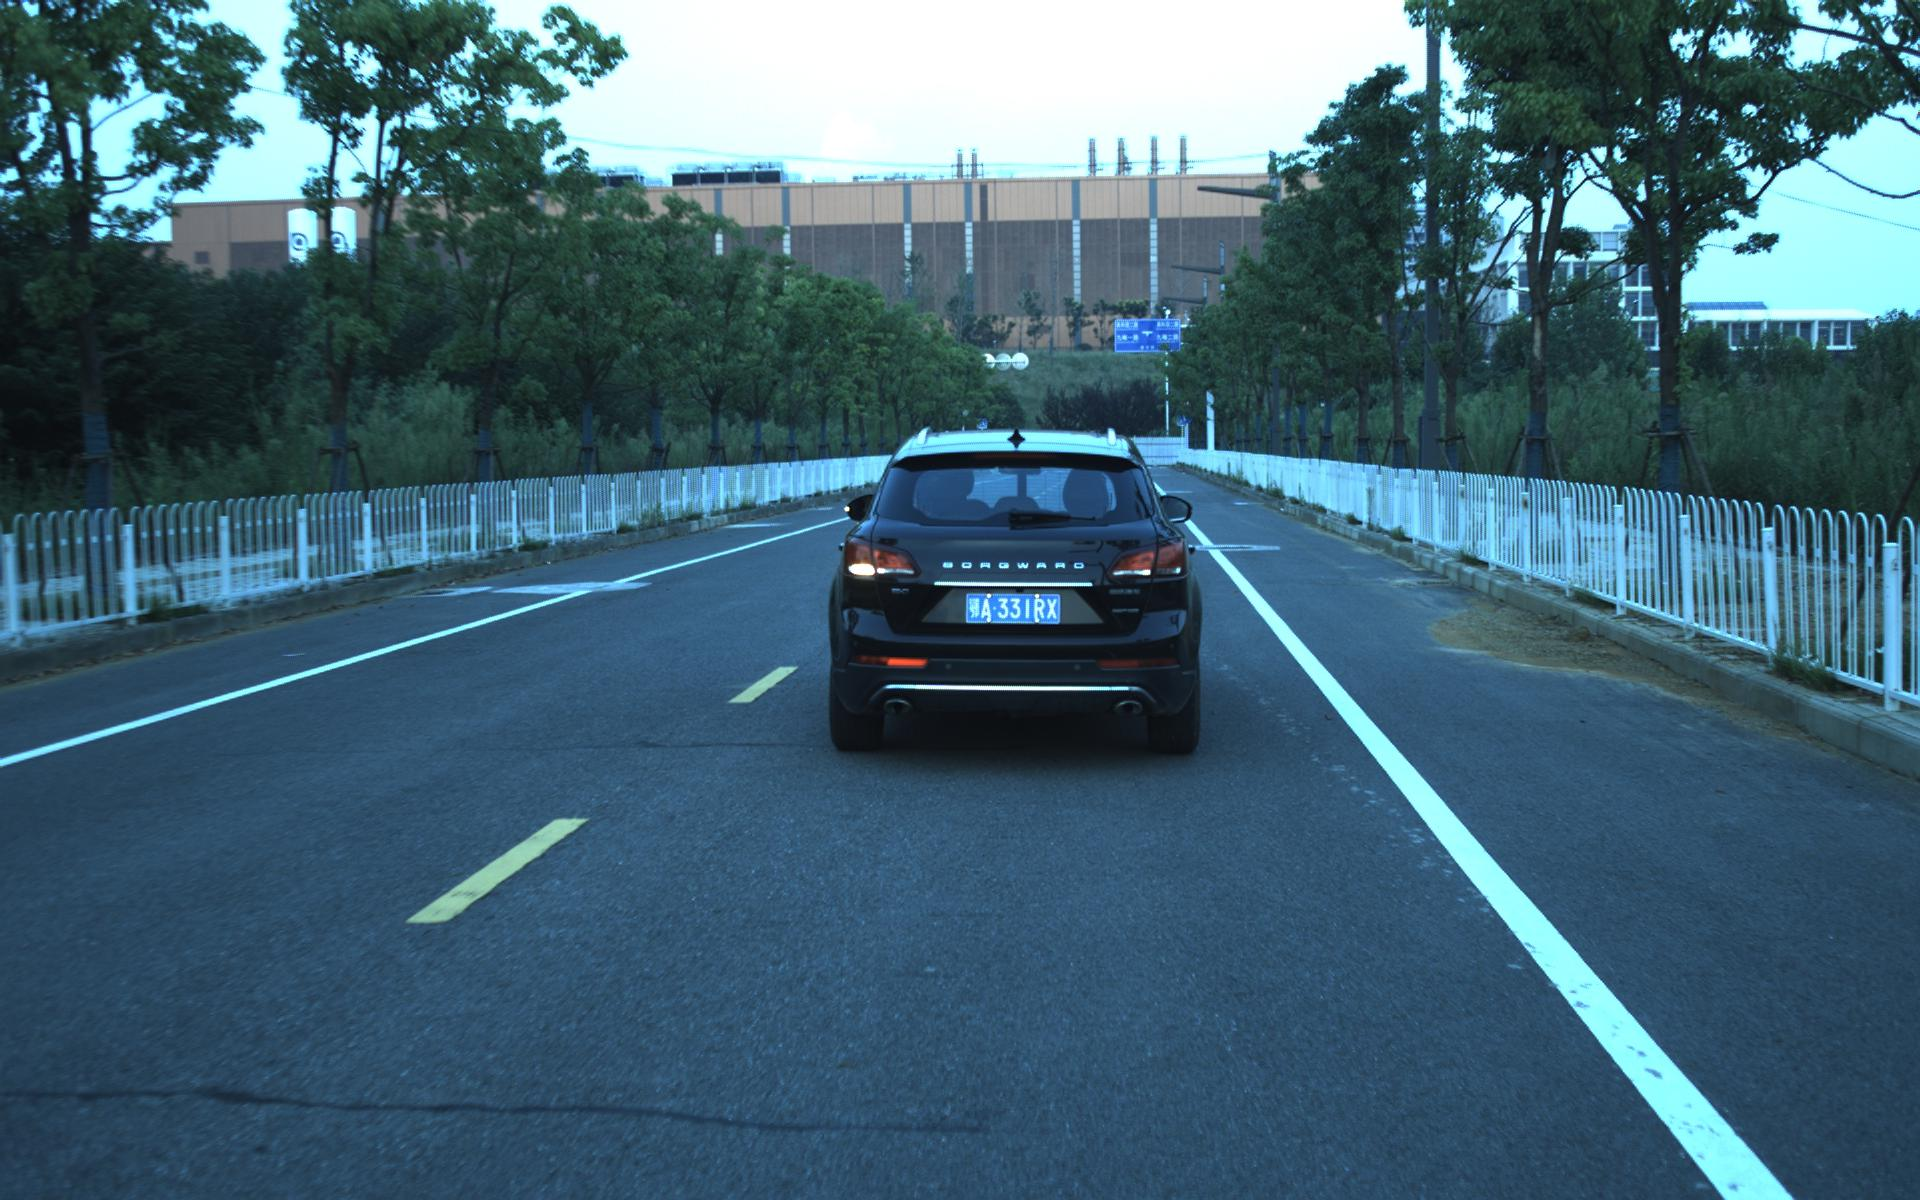Car: (818, 420, 1203, 762)
